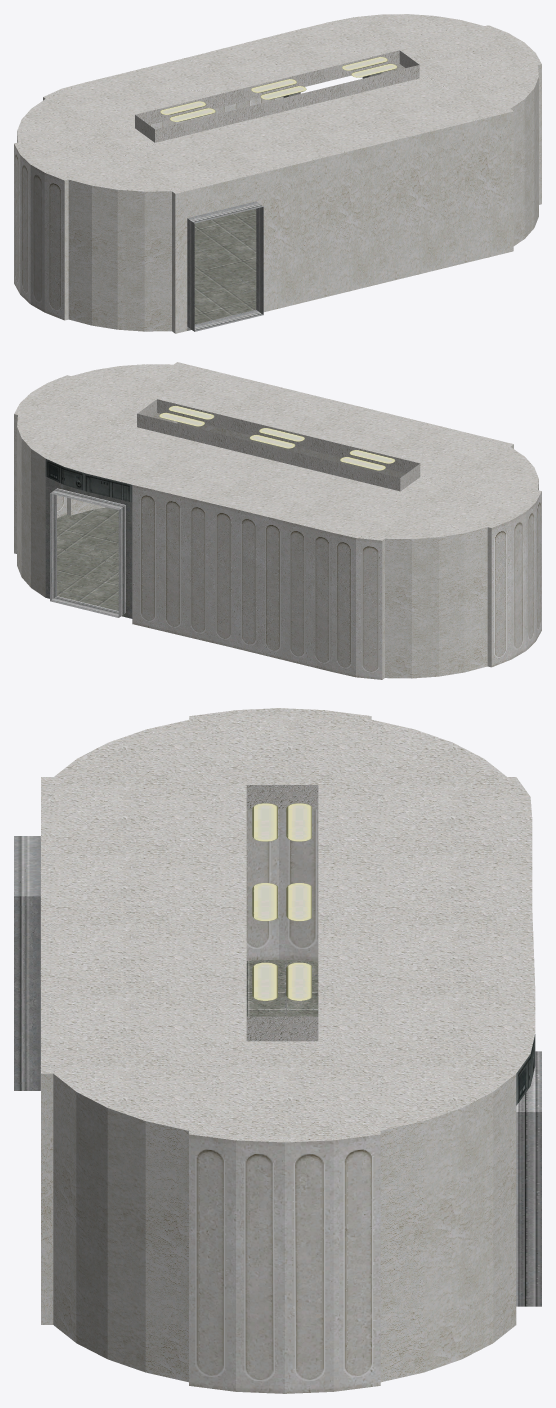
The model's file is ply_corl_house_sm_s02_fp2_r1_entry_mesh.fbx.
3 views of the same model, one above another, from view 1: azimuth 30°, elevation 25°; view 2: azimuth 150°, elevation 25°; view 3: azimuth 270°, elevation 25° (orthographic). The views are drawn at different scales.
Visible parts, largest first — view 1: mesh_node; view 2: mesh_node; view 3: mesh_node.
Part boxes in pixels (x1=…): mesh_node: x1=14, y1=14, x2=541, y2=333; mesh_node: x1=14, y1=362, x2=541, y2=679; mesh_node: x1=14, y1=708, x2=541, y2=1393.
Bounding box in the file's own units: 14.36 × 4.25 × 7.38.
